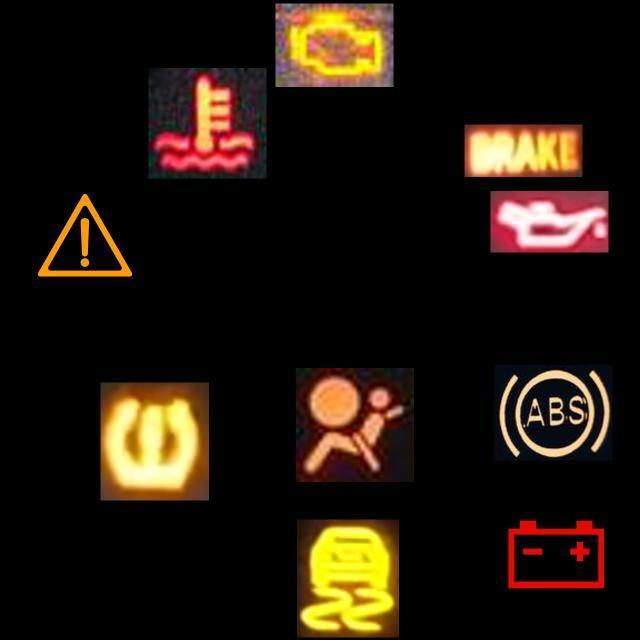Central Warning lamp: (26, 176, 144, 294)
Engine cooling system: (148, 68, 266, 178)
